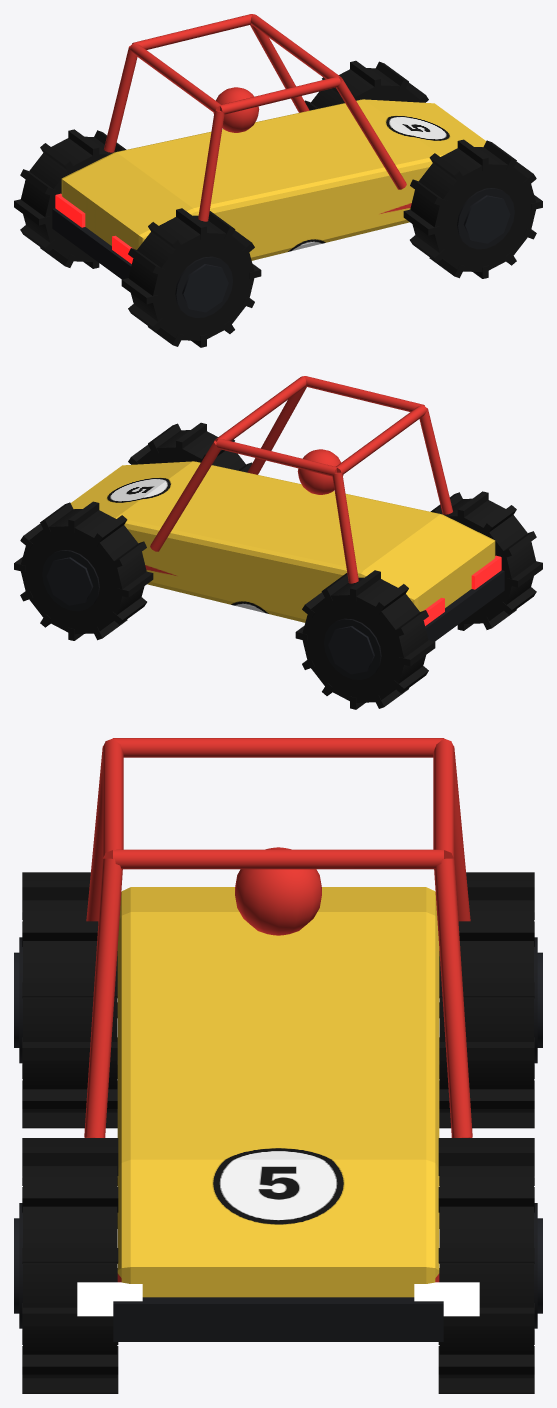
File: SandHopper_+x.glb
3 renders of one model, top to bottom at view 1: azimuth 30°, elevation 25°; view 2: azimuth 150°, elevation 25°; view 3: azimuth 270°, elevation 25°, orthographic. The views are drawn at different scales.
Parts seen in each view (by area): view 1: BodyShell, Tire (×4), Tube (×8), Wheel_FR_Spin, Wheel_RR_Spin, Wheel_RL_Spin, BumperRear, Helmet, Wheel_FL_Spin, Taillight; view 2: BodyShell, Tire (×4), Tube (×8), Wheel_FL_Spin, Wheel_RL_Spin, Wheel_RR_Spin, BumperRear, Helmet, Wheel_FR_Spin, Taillight; view 3: BodyShell, Tire (×4), Tube (×8), BumperFront, Wheel_FR_Spin, Wheel_FL_Spin, Wheel_RR_Spin, Wheel_RL_Spin, Helmet, Headlight (×2).
Part boxes in pixels (left/top/right/bottom): BodyShell: left=61, top=99, right=486, bottom=260; Tire (×4): left=20, top=68, right=535, bottom=340; Tube (×8): left=104, top=14, right=406, bottom=221; Wheel_FR_Spin: left=403, top=139, right=542, bottom=278; Wheel_RR_Spin: left=121, top=208, right=261, bottom=347; Wheel_RL_Spin: left=14, top=129, right=126, bottom=268; BumperRear: left=52, top=208, right=131, bottom=279; Helmet: left=213, top=87, right=259, bottom=132; Wheel_FL_Spin: left=304, top=60, right=428, bottom=110; Taillight: left=55, top=193, right=85, bottom=227; BodyShell: left=70, top=461, right=495, bottom=622; Tire (×4): left=21, top=430, right=536, bottom=702; Tube (×8): left=150, top=376, right=452, bottom=583; Wheel_FL_Spin: left=14, top=501, right=153, bottom=640; Wheel_RL_Spin: left=295, top=570, right=435, bottom=709; Wheel_RR_Spin: left=430, top=491, right=542, bottom=630; BumperRear: left=425, top=570, right=504, bottom=641; Helmet: left=297, top=449, right=343, bottom=494; Wheel_FR_Spin: left=128, top=422, right=252, bottom=472; Taillight: left=471, top=555, right=501, bottom=589; BodyShell: left=117, top=887, right=439, bottom=1297; Tire (×4): left=23, top=900, right=533, bottom=1378; Tube (×8): left=84, top=738, right=472, bottom=1137; BumperFront: left=113, top=1297, right=443, bottom=1341; Wheel_FR_Spin: left=14, top=1138, right=118, bottom=1393; Wheel_FL_Spin: left=438, top=1138, right=542, bottom=1393; Wheel_RR_Spin: left=14, top=872, right=117, bottom=1128; Wheel_RL_Spin: left=439, top=872, right=542, bottom=1128; Helmet: left=235, top=847, right=321, bottom=935; Headlight (×2): left=77, top=1282, right=479, bottom=1316.
Bounding box in the file's own units: 3.4 × 1.75 × 2.02.
7 materials, 1 textured.
